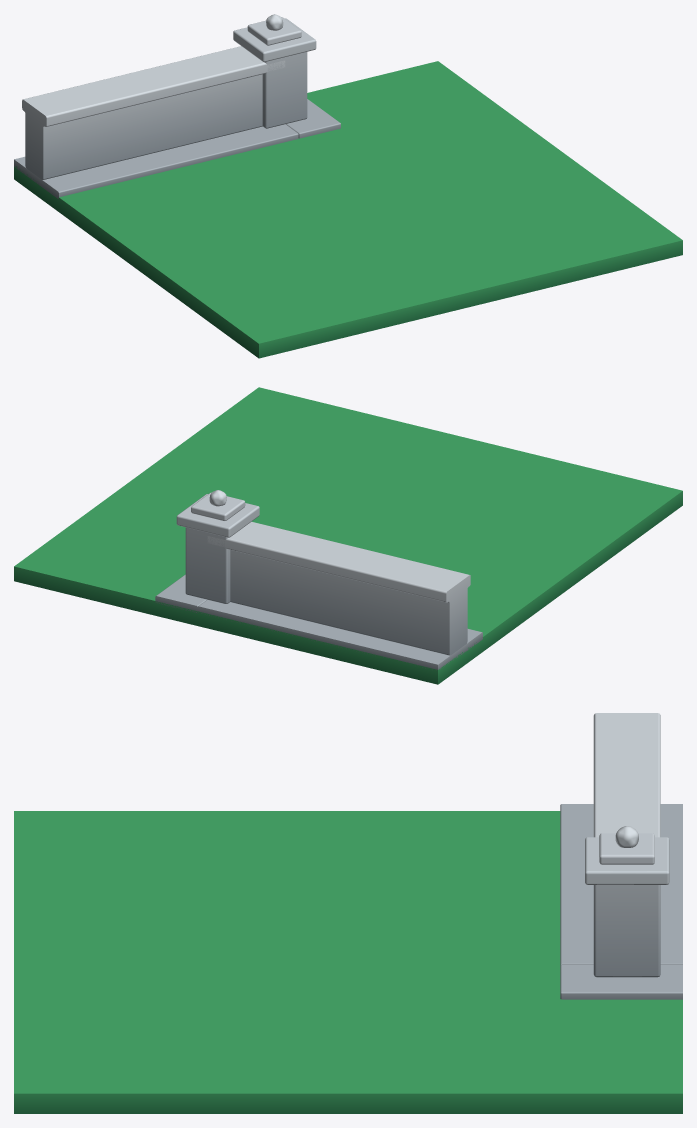
The model's file is muro_fin.glb.
3 views of the same model, one above another, from view 1: azimuth 30°, elevation 25°; view 2: azimuth 150°, elevation 25°; view 3: azimuth 270°, elevation 25° (orthographic). The views are drawn at different scales.
Parts seen in each view (by area): view 1: muro_fin; view 2: muro_fin; view 3: muro_fin.
Part boxes in pixels (bbox=[...]): muro_fin: bbox=[14, 14, 682, 358]; muro_fin: bbox=[14, 387, 682, 684]; muro_fin: bbox=[14, 713, 682, 1113].
Bounding box in the file's own units: 6 × 1.63 × 6.
Materials: 1 (1 with a texture image).
